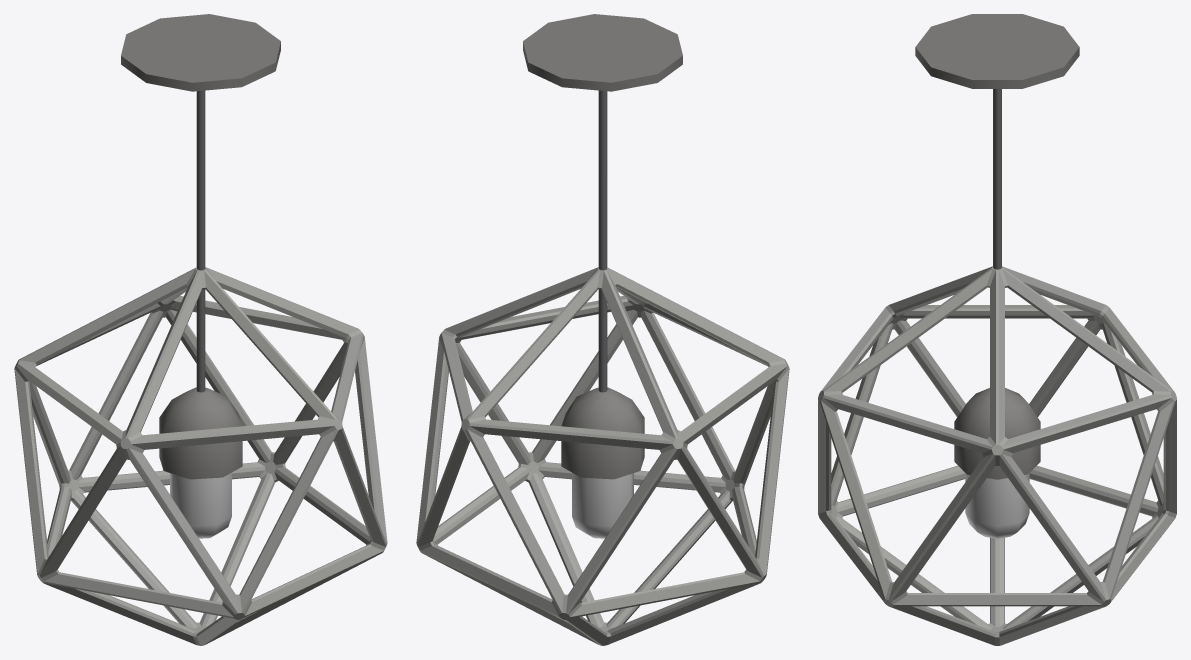
File: Light_Icosahedron.glb
The picture shows the model from 3 angles, left to right: view 1: azimuth 30°, elevation 25°; view 2: azimuth 150°, elevation 25°; view 3: azimuth 270°, elevation 25°; orthographic projection.
Visible parts, largest first — view 1: Light_Icosahedron; view 2: Light_Icosahedron; view 3: Light_Icosahedron.
Part boxes in pixels (box(x1,y1,x2,y2)): Light_Icosahedron: box(14, 14, 387, 645); Light_Icosahedron: box(416, 14, 789, 645); Light_Icosahedron: box(818, 14, 1176, 645).
Bounding box in the file's own units: 0.2456 × 0.4302 × 0.2344.
4 materials, 4 textured.
